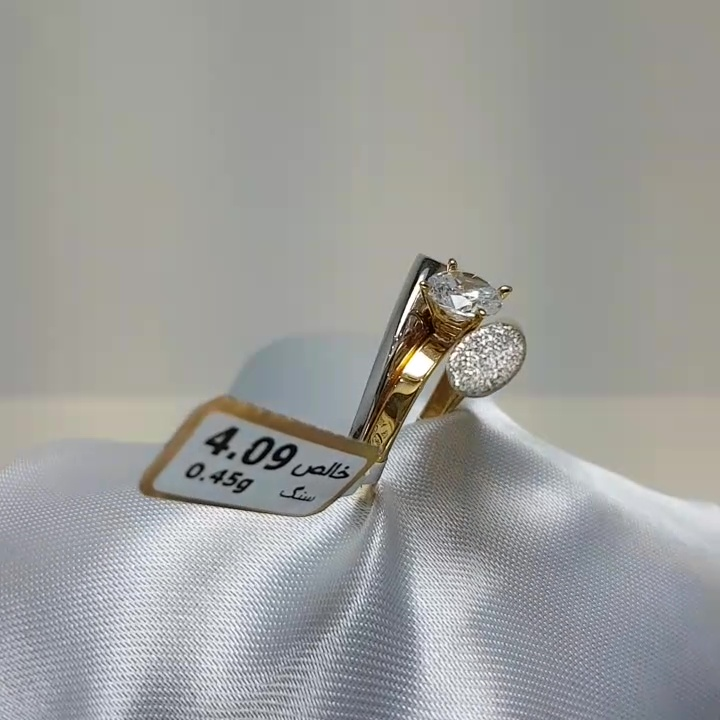Ring 7: (322, 241, 536, 507)
